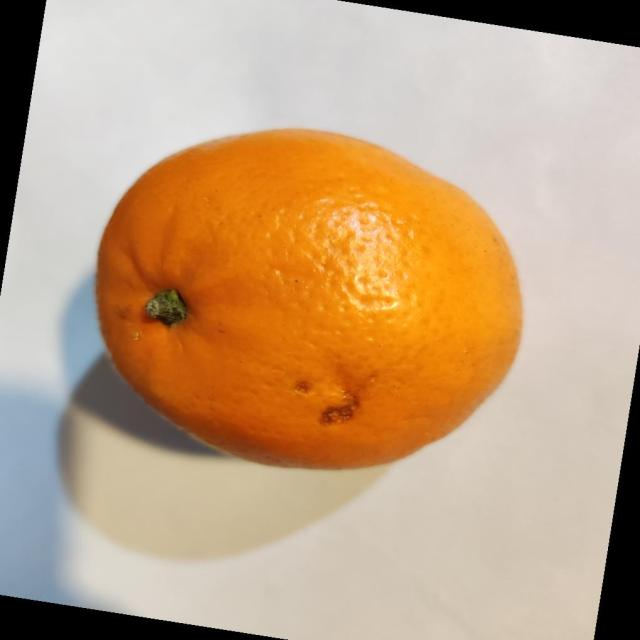fresh orange: (94, 126, 524, 471)
